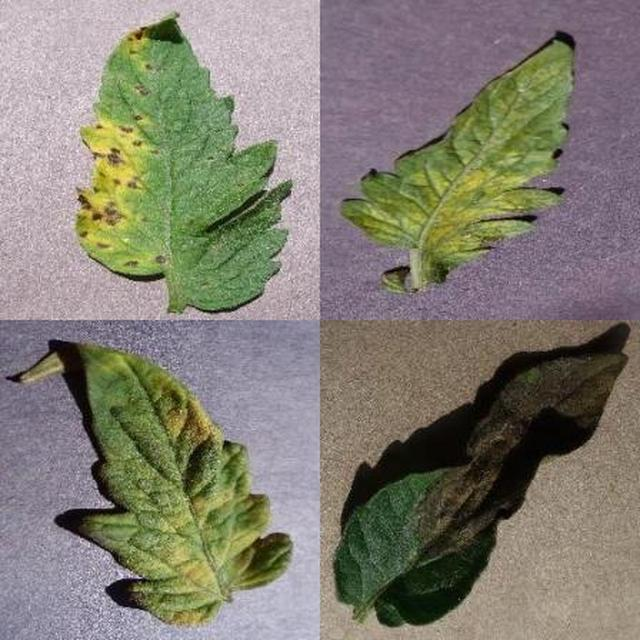Septoria Leaf: (263, 209, 640, 640)
